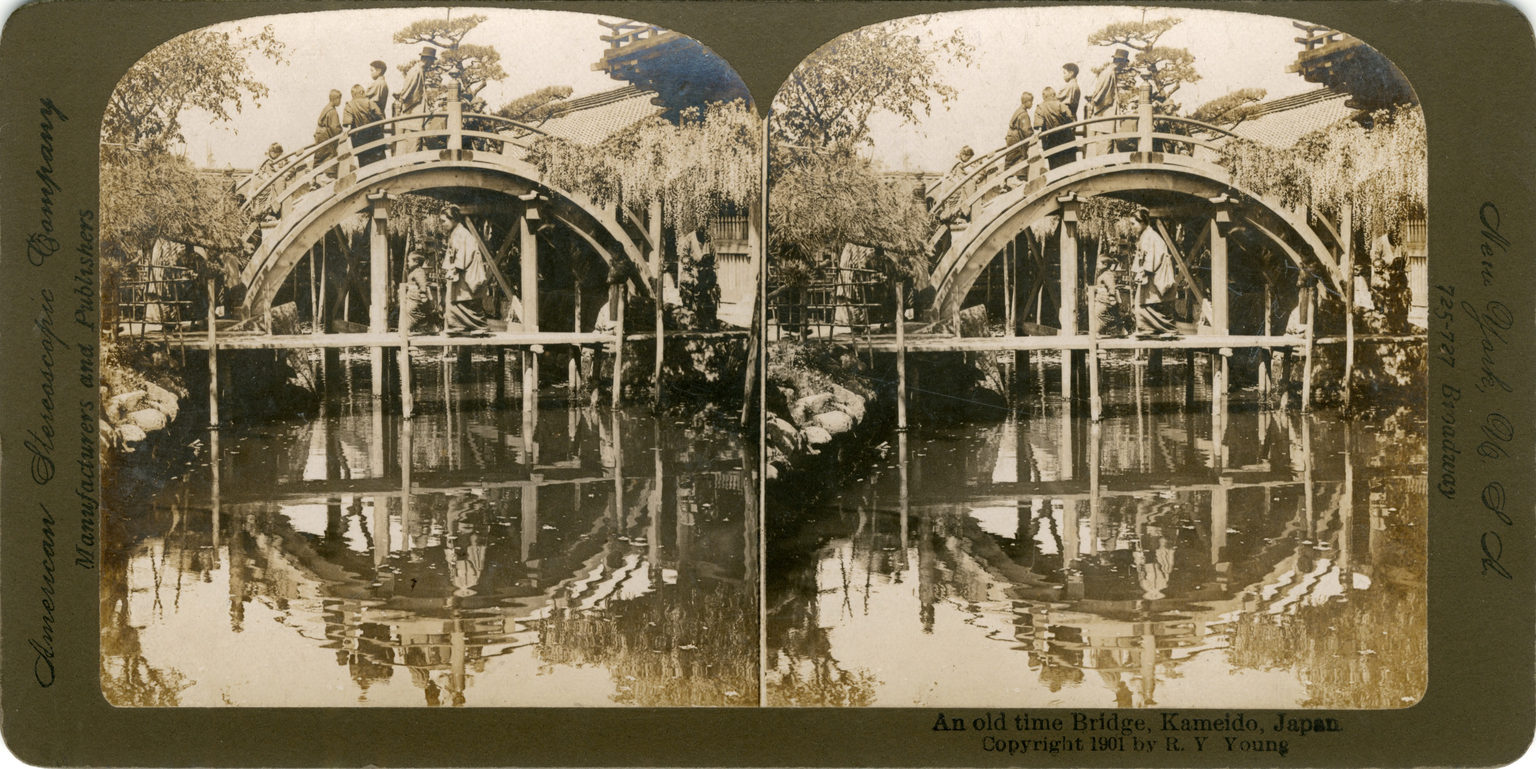half_image: (101, 6, 762, 709), (769, 6, 1430, 709)
